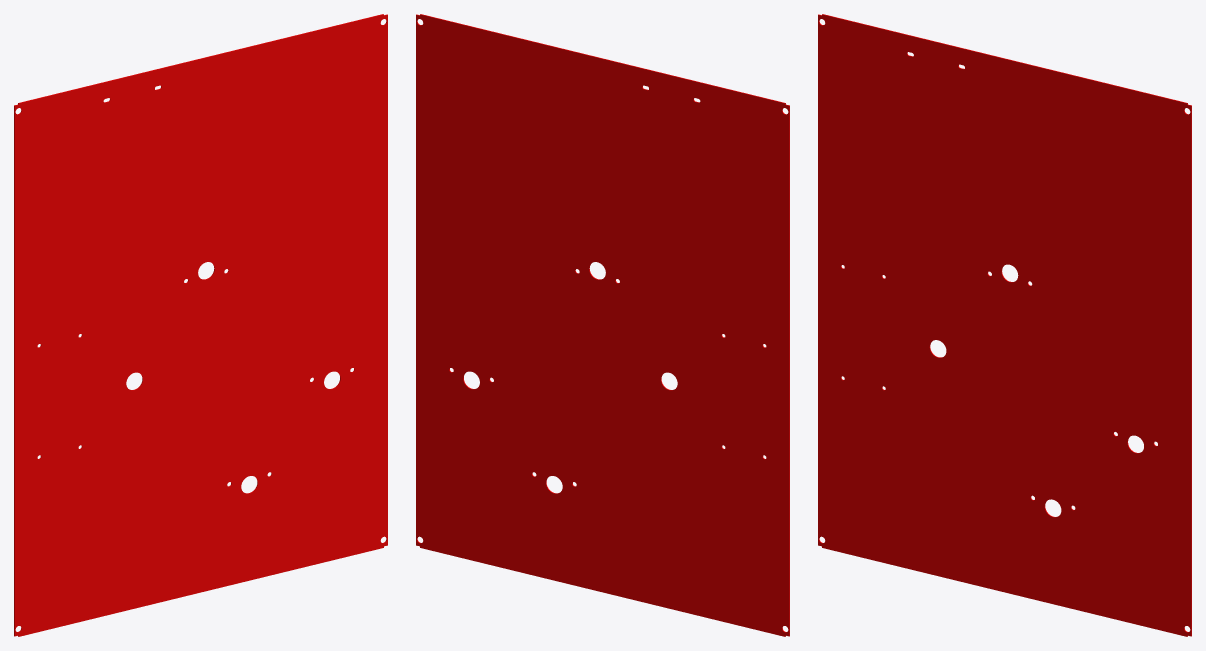
Rendered from 3dpea.gltf.
The picture shows the model from 3 angles, left to right: view 1: azimuth 30°, elevation 25°; view 2: azimuth 150°, elevation 25°; view 3: azimuth 330°, elevation 25°; orthographic projection.
Parts seen in each view (by area): view 1: Äâåðü ñ îòâåðñòèÿìè; view 2: Äâåðü ñ îòâåðñòèÿìè; view 3: Äâåðü ñ îòâåðñòèÿìè.
Boxes of the visible parts, box(x1,y1,x2,y2) form: Äâåðü ñ îòâåðñòèÿìè: box(14, 14, 387, 636); Äâåðü ñ îòâåðñòèÿìè: box(416, 14, 789, 636); Äâåðü ñ îòâåðñòèÿìè: box(818, 14, 1191, 636).
Bounding box in the file's own units: 1094 × 1494 × 3.
